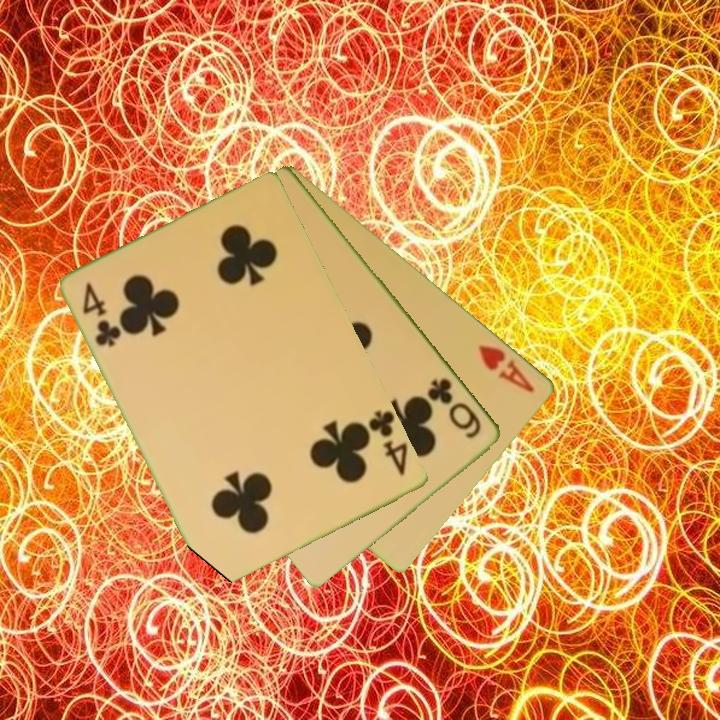4c: (365, 406, 411, 480), (79, 278, 124, 351)
6c: (425, 374, 485, 442)
Ah: (475, 341, 538, 396)
